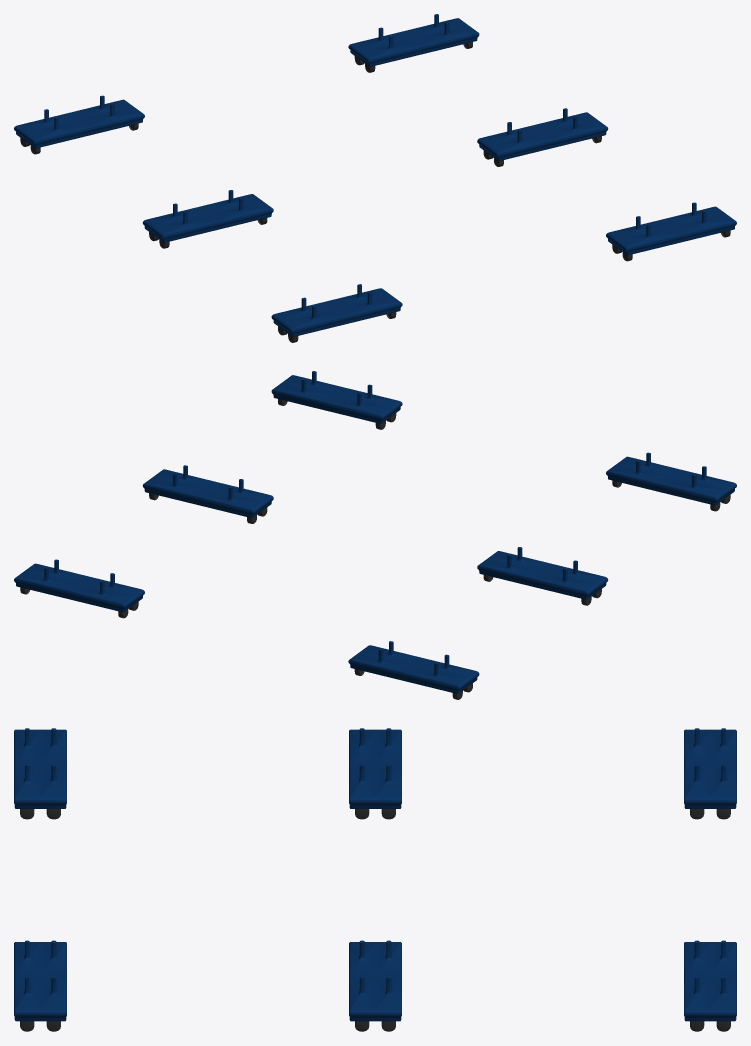
File: focos.glb
3 renders of one model, top to bottom at view 1: azimuth 30°, elevation 25°; view 2: azimuth 150°, elevation 25°; view 3: azimuth 270°, elevation 25°, orthographic. The views are drawn at different scales.
Parts seen in each view (by area): view 1: Object_25; view 2: Object_25; view 3: Object_25.
Part boxes in pixels (x1,y1,x2,y2): Object_25: [14, 14, 736, 342]; Object_25: [14, 371, 736, 699]; Object_25: [14, 728, 736, 1031].
Bounding box in the file's own units: 5.1 × 0.3346 × 5.5.
Materials: 2 (1 with a texture image).
